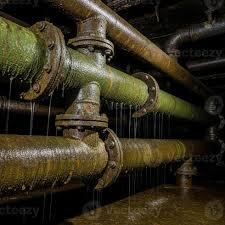leak: (7, 76, 69, 152), (110, 90, 175, 140)
